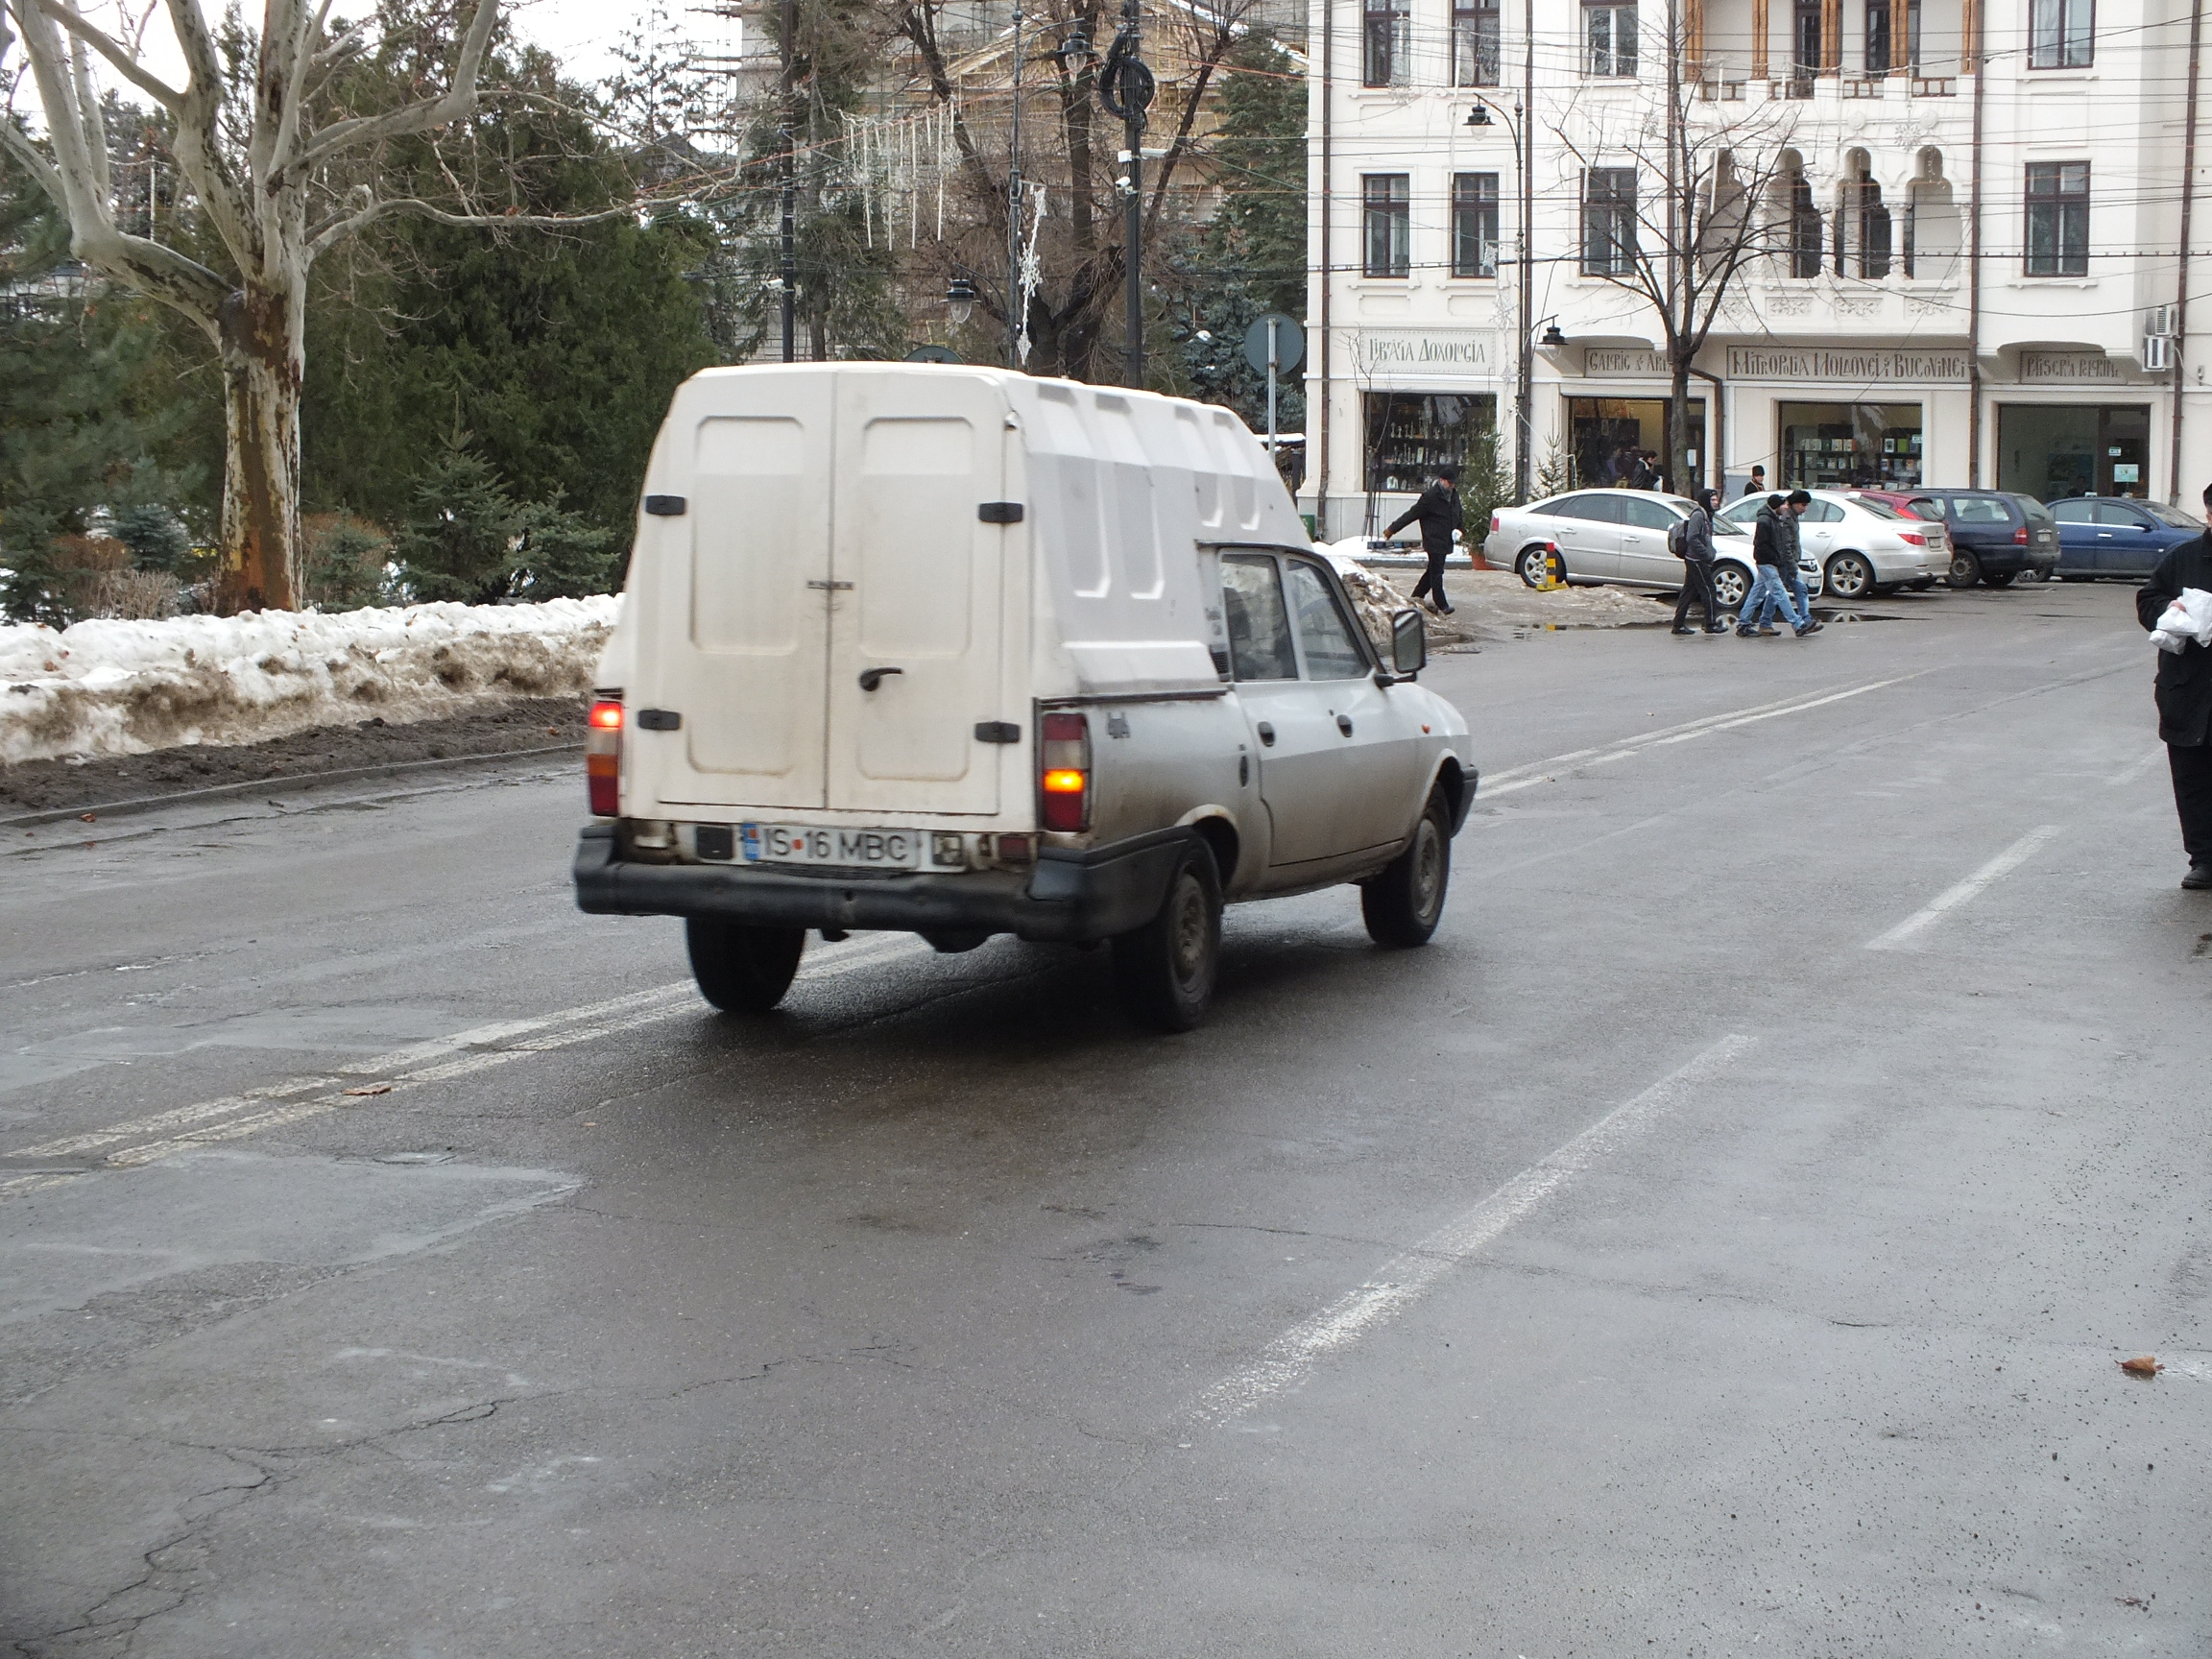IS16MBC: (742, 825, 910, 864)
